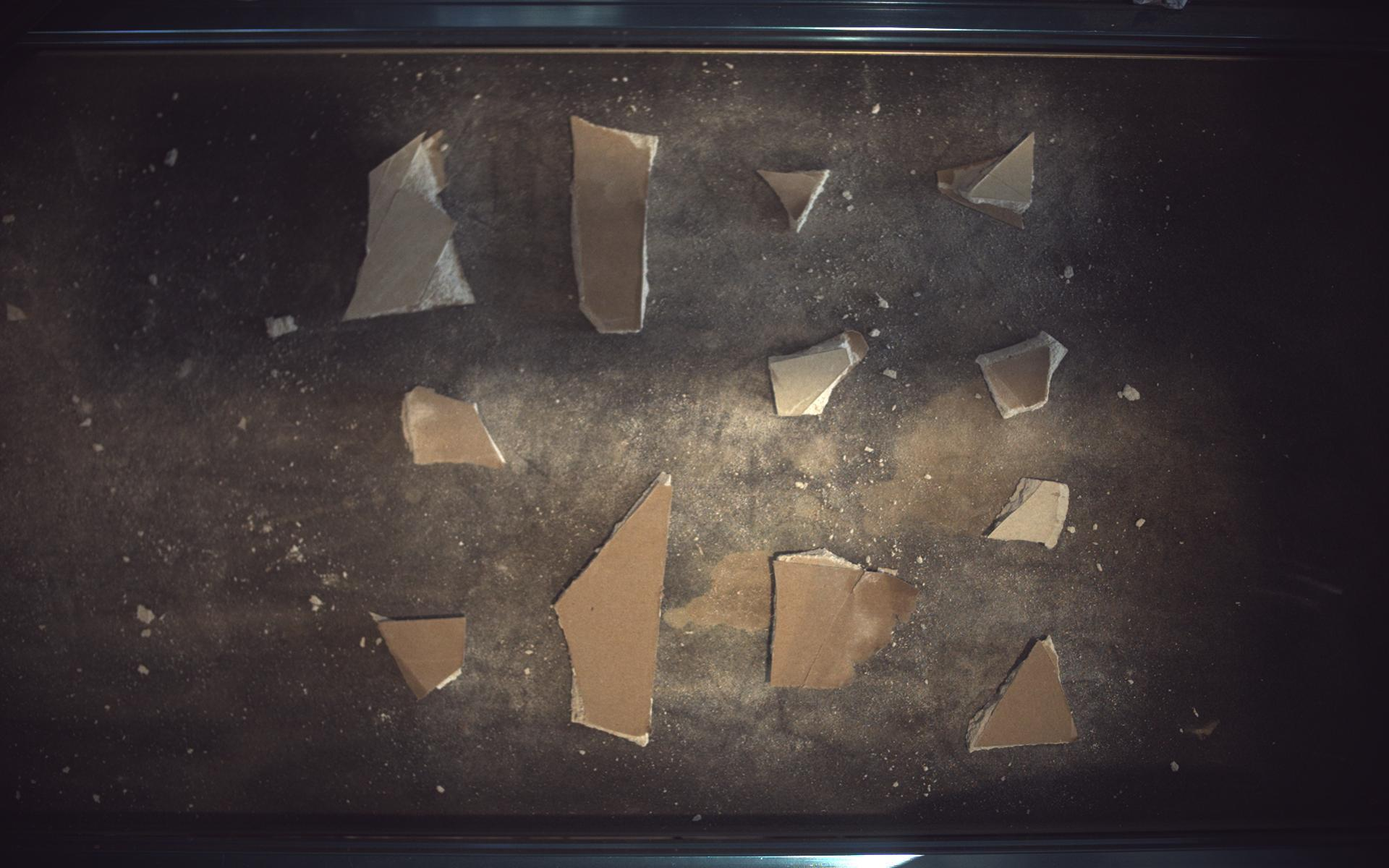gypsum_board: (554, 472, 673, 748), (342, 130, 475, 320), (771, 550, 919, 689), (572, 115, 658, 333), (968, 637, 1079, 753), (940, 131, 1037, 227), (770, 329, 869, 417), (402, 386, 505, 469), (371, 613, 466, 701), (977, 331, 1070, 419), (987, 479, 1071, 550), (759, 169, 831, 232)
